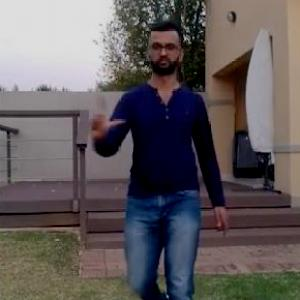land_hand: (80, 89, 126, 148)
